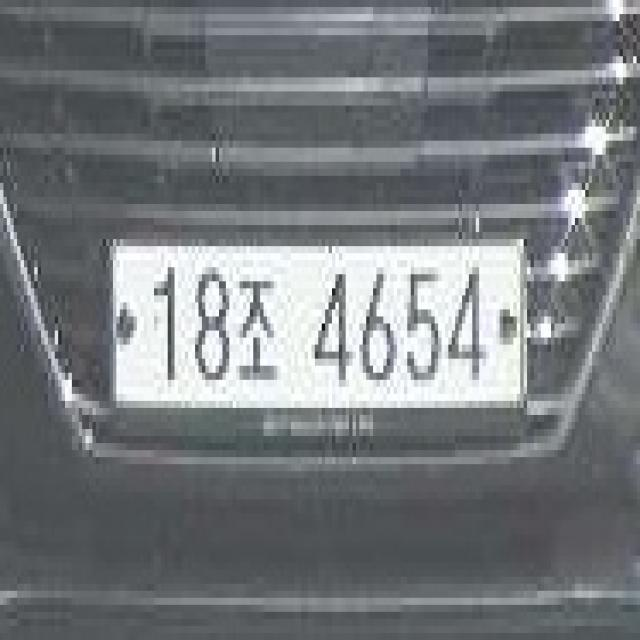plat: (103, 235, 529, 412)
